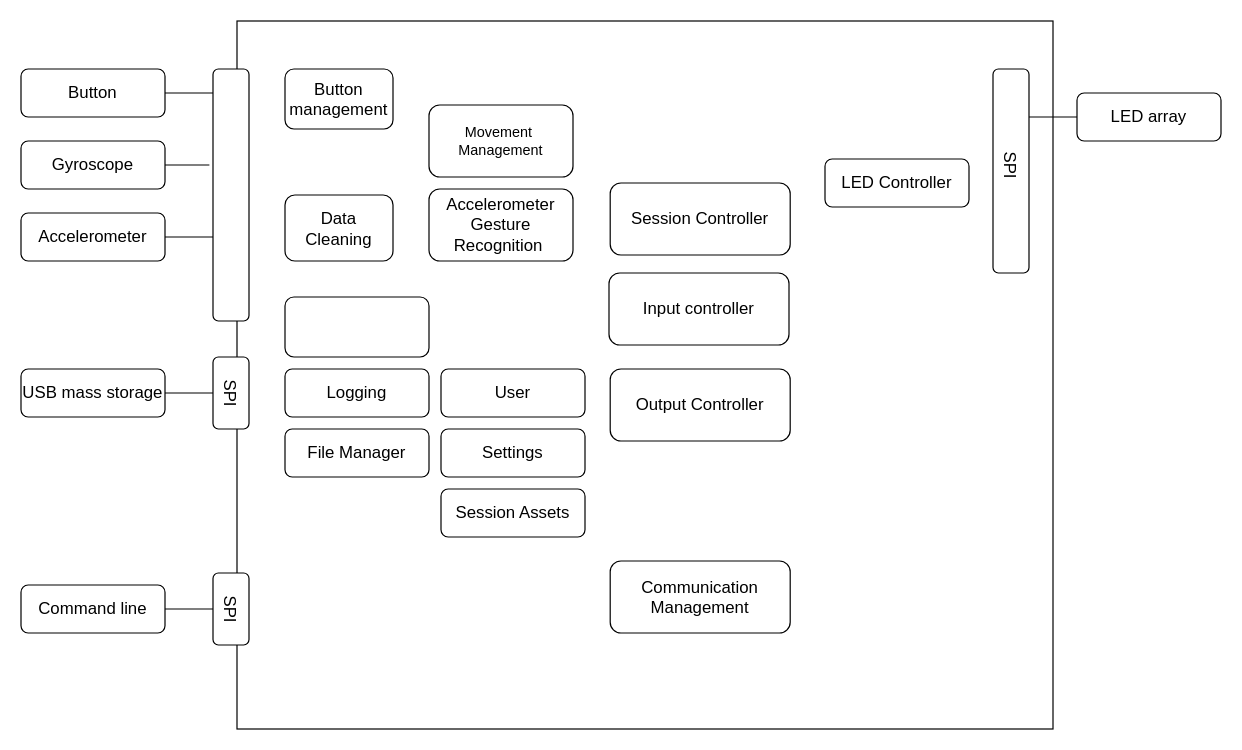
This 1242x750 diagram has some shape labels left out. The centre of each missing label's shape, as x and y in pixels:
"I2C" belongs at [230,194].
"Power Management" belongs at [356,326].
